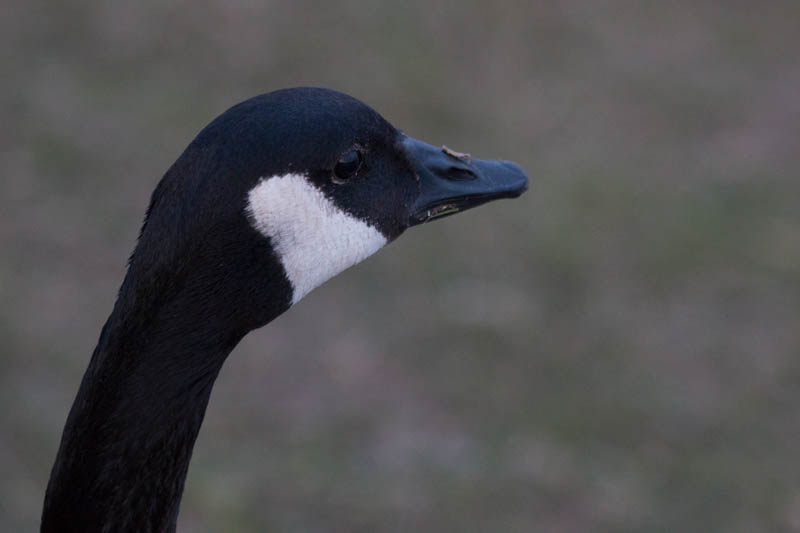goose-head: (149, 87, 530, 330)
